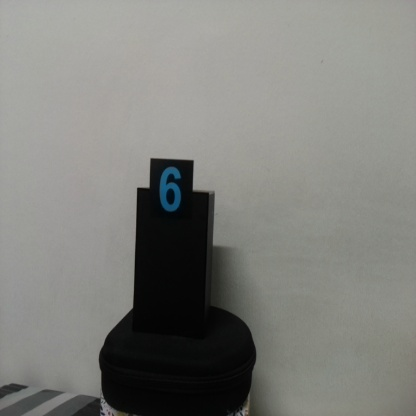id_6: (151, 158, 194, 228)
